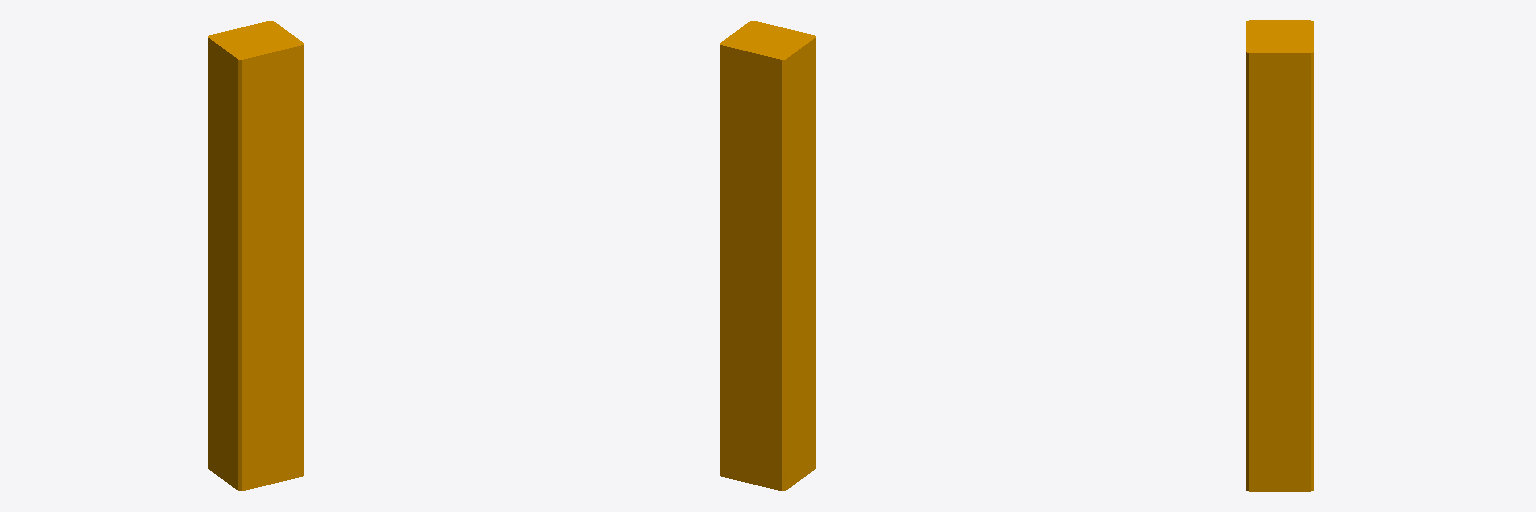
URDF robot description (factory_rectangular_peg_8mm_tight):
<?xml version="1.0"?>
<robot name="factory_rectangular_peg_8mm_tight">
    <link name="factory_rectangular_peg_8mm_tight">
        <visual>
            <geometry>
                <mesh filename="../mesh/factory_insertion/factory_rectangular_peg_8mm_tight_subdiv_3x.obj"/>
            </geometry>
        </visual>
        <collision>
            <geometry>
                <mesh filename="../mesh/factory_insertion/factory_rectangular_peg_8mm_tight_subdiv_3x.obj"/>
            </geometry>
            <sdf resolution="256"/>
        </collision>
    </link>
</robot>

--- What the picture shows (computed from the rendered views, not written in the file) ---
3 views of the same robot in one strip: view 1: azimuth 30°, elevation 25°; view 2: azimuth 150°, elevation 25°; view 3: azimuth 270°, elevation 25° (orthographic).
Robot: factory_rectangular_peg_8mm_tight — 1 links, 0 joints (none); root link factory_rectangular_peg_8mm_tight; default pose: all joints at 0.
Visible links, largest first — view 1: factory_rectangular_peg_8mm_tight; view 2: factory_rectangular_peg_8mm_tight; view 3: factory_rectangular_peg_8mm_tight.
Link boxes in pixels (x1,y1,x2,y2): factory_rectangular_peg_8mm_tight: (208, 21, 303, 490); factory_rectangular_peg_8mm_tight: (720, 21, 815, 490); factory_rectangular_peg_8mm_tight: (1246, 20, 1313, 491).
Size in the robot's own frame: 0.008 by 0.007 by 0.05 metres.
1 mesh visuals loaded from 1 distinct referenced files (1 OBJ).